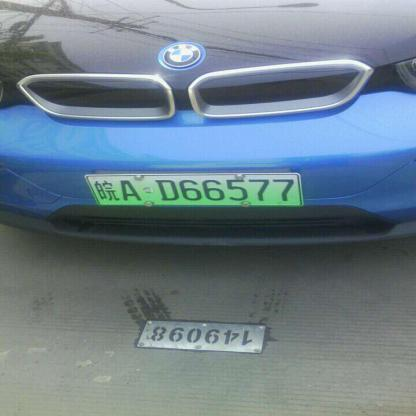lp: (86, 174, 302, 204)
